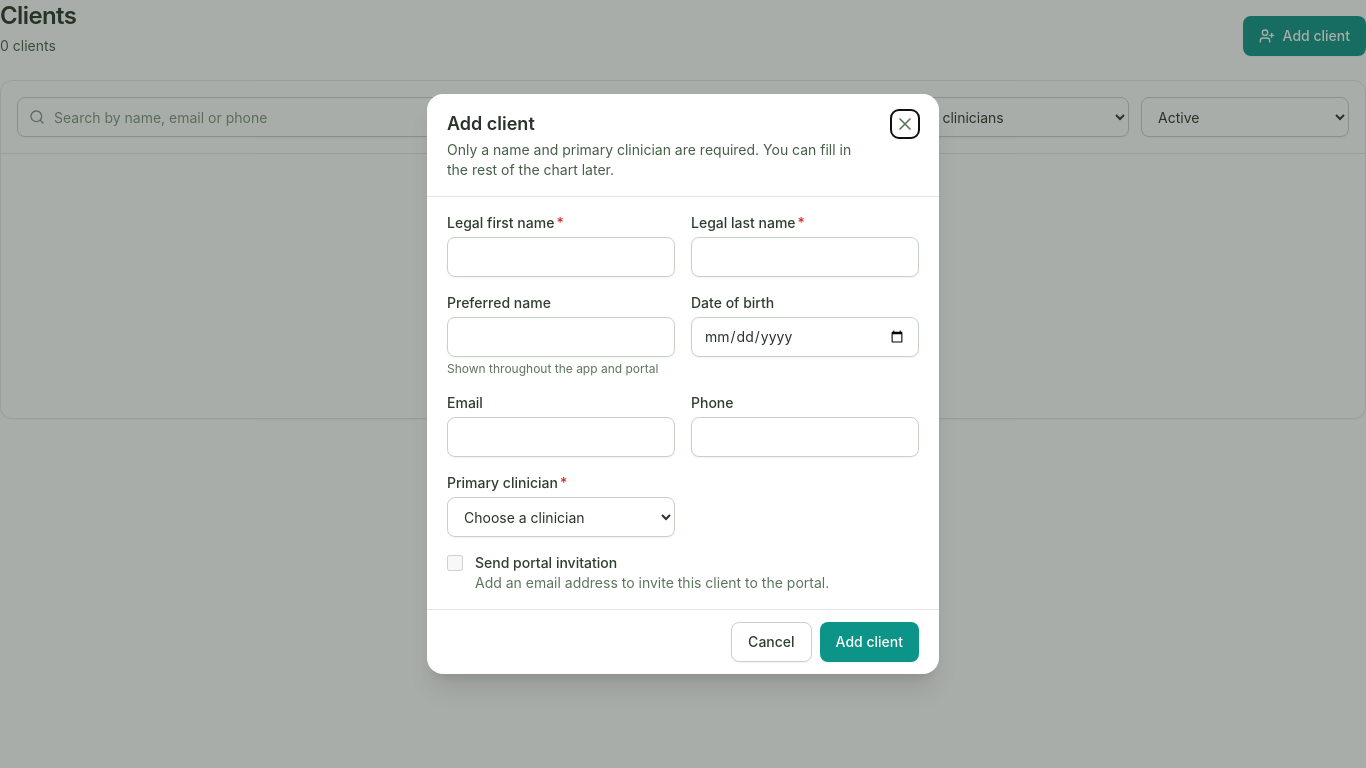
ClientsPage › makes a scheduler choose the primary clinician and leaves out billing details
This screenshot has width=1366, height=768.
Type "Sam" into the field labelled "Legal first name*".
click(561, 257); type("Sam")  # box 447,237 -> 675,277
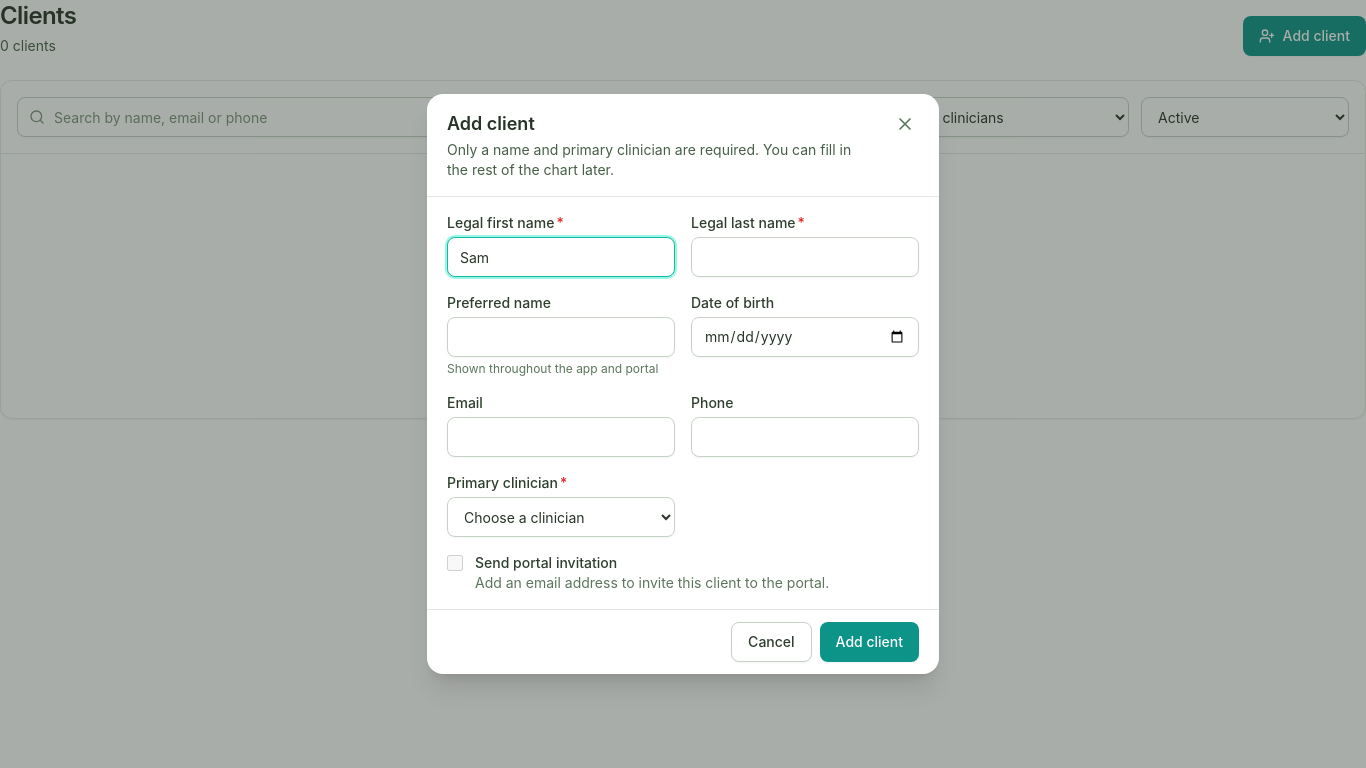
Type "Lee" into the field labelled "Legal last name*".
click(805, 257); type("Lee")  # box 691,237 -> 919,277
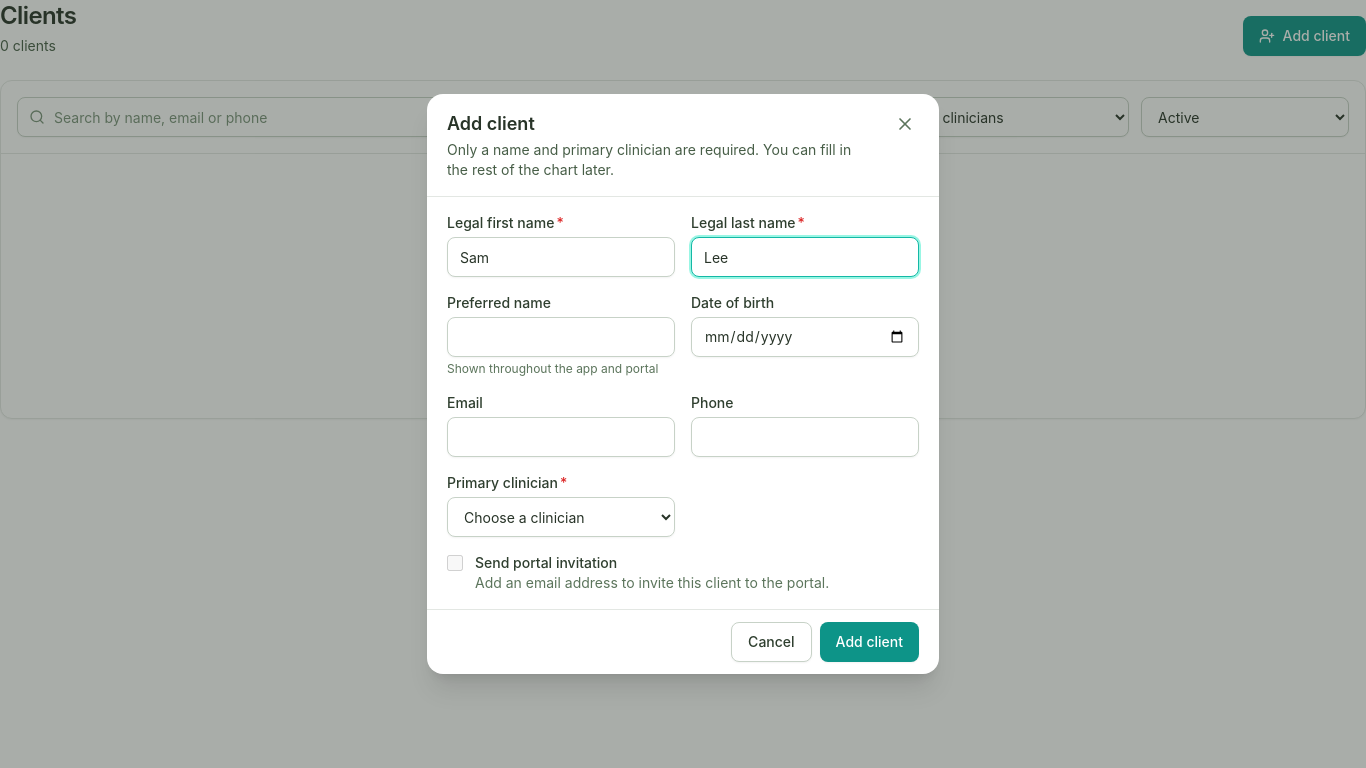
Click the button "Add client".
click(869, 642)  # box 820,622 -> 919,662
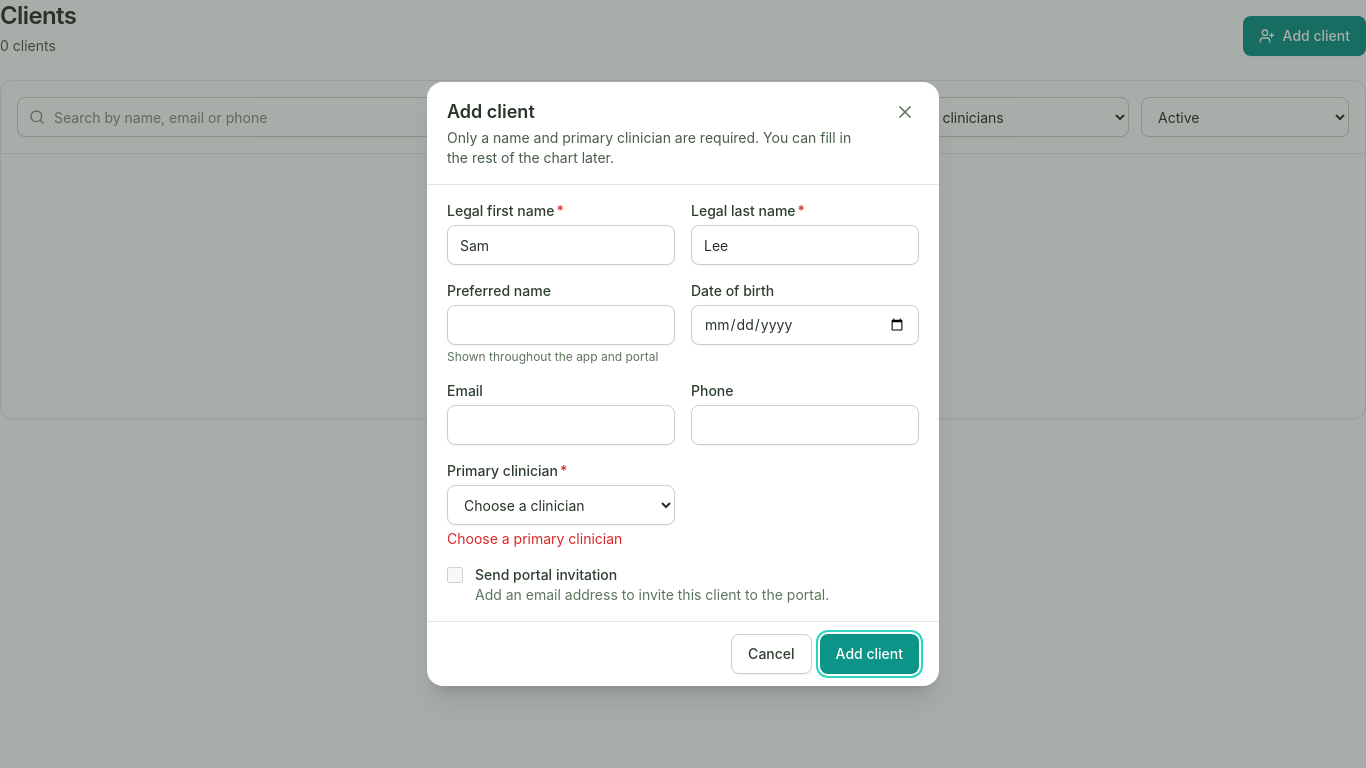
expect the text "Choose a primary clinician" is shown: met, box 447,530 -> 622,547
Select "Jo Park, LMFT" in the dropdown labelled "Primary clinician*" at (561, 505), box 447,485 -> 675,525
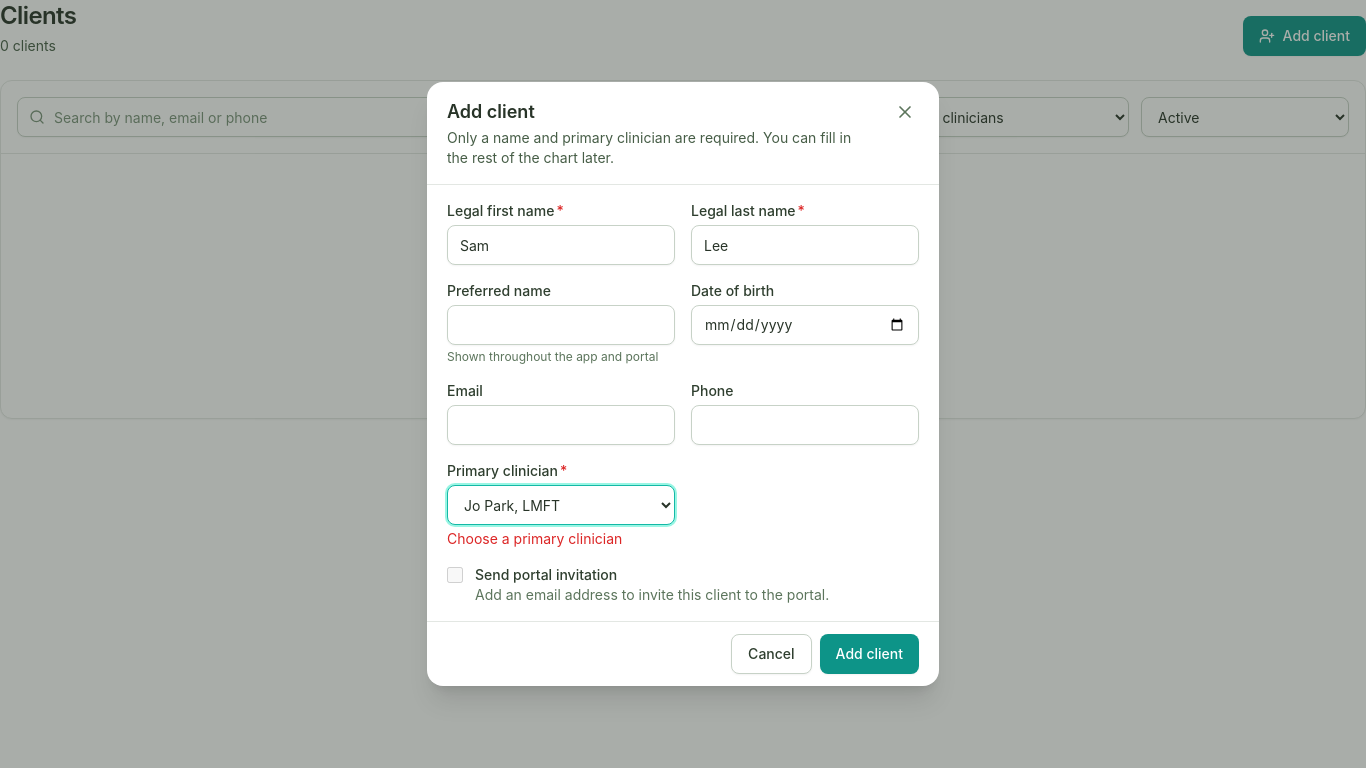
Click the button "Add client".
click(869, 654)  # box 820,634 -> 919,674
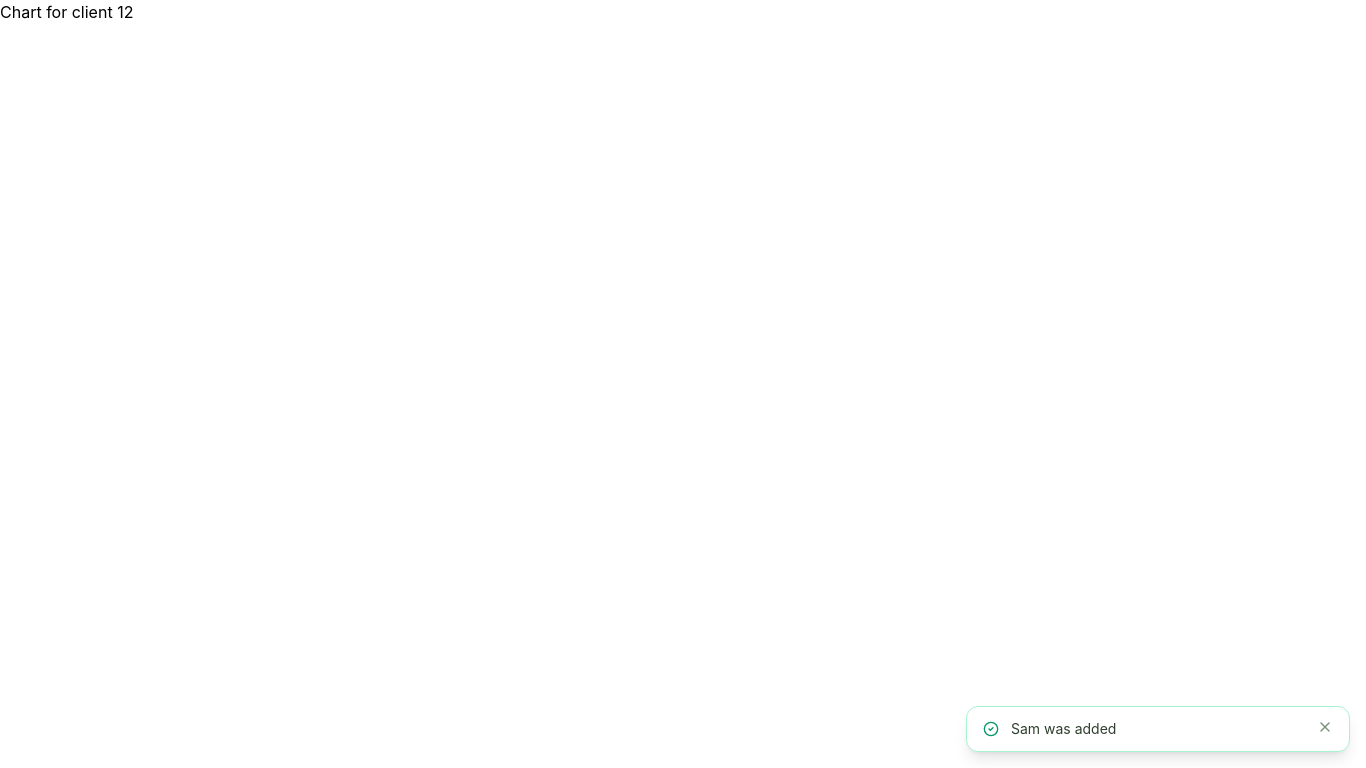
expect the text "Chart for client 12" is shown: met, box 0,2 -> 133,22
